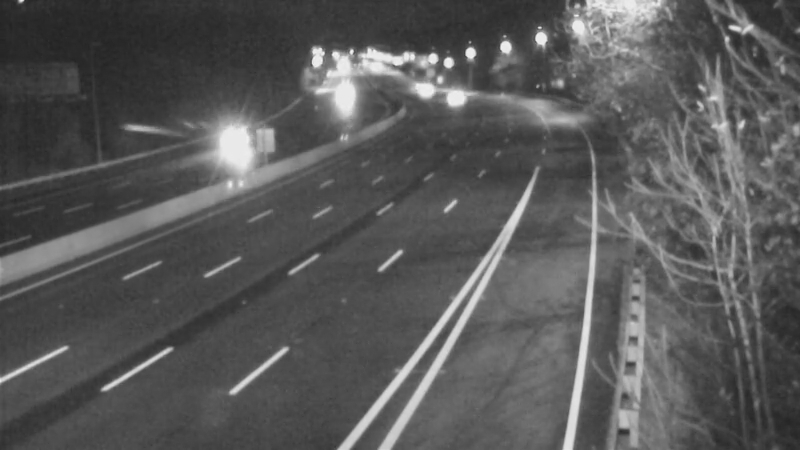vehicle: (400, 68, 450, 118), (428, 73, 478, 123), (202, 125, 252, 175), (318, 77, 368, 127)
